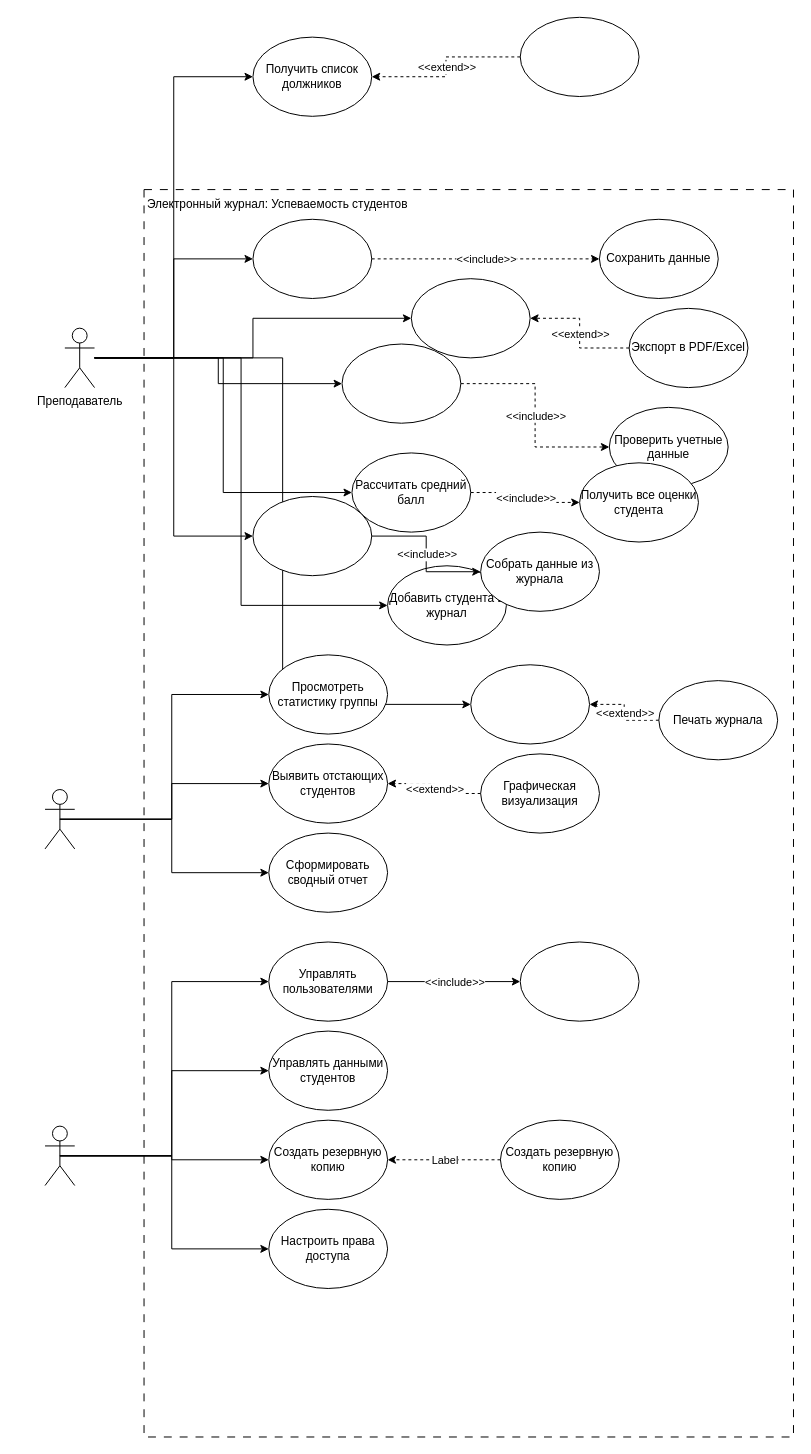
This 811x1454 diagram has some shape labels left out. Each missing label, with the box of its shape:
Администратор: (44, 1125, 75, 1186)
Внести оценки: (252, 218, 372, 298)
Войти в систему: (341, 343, 461, 423)
Куратор группы: (44, 789, 75, 849)
Отправить уведомление: (519, 16, 639, 97)
Посмотреть журнал группы: (470, 664, 590, 744)
Проверить права доступа: (519, 941, 639, 1021)
Редактировать оценку: (410, 278, 530, 358)
Сформировать отчет по успеваемости: (252, 495, 372, 576)
